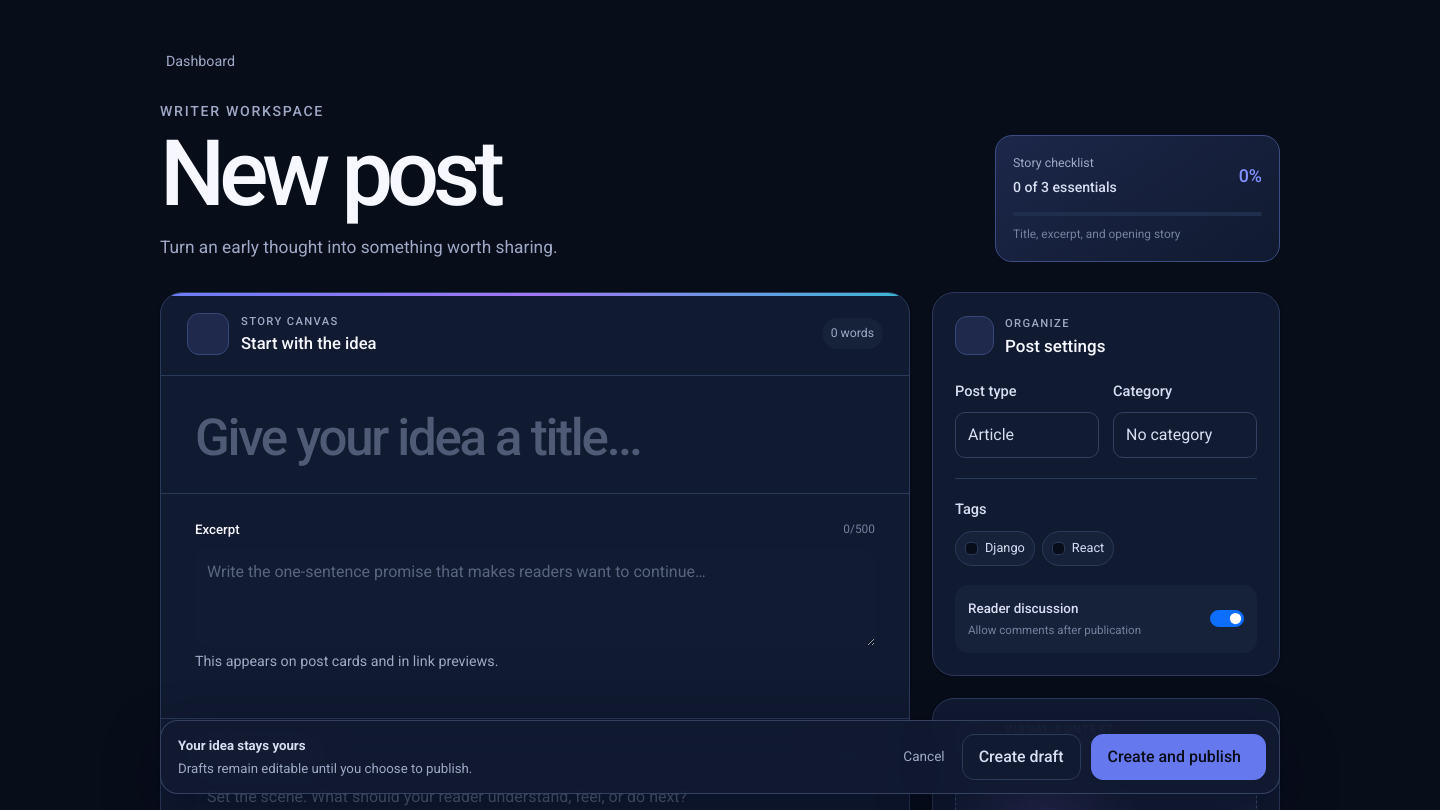
Scenario: PostEditorPage › shows and clears server field validation errors
Expected: the heading "New post" is shown, [160,120,499,227]
Type "Draft" into the field labelled "title". click: (535, 438)
box: [195,410,875,466]
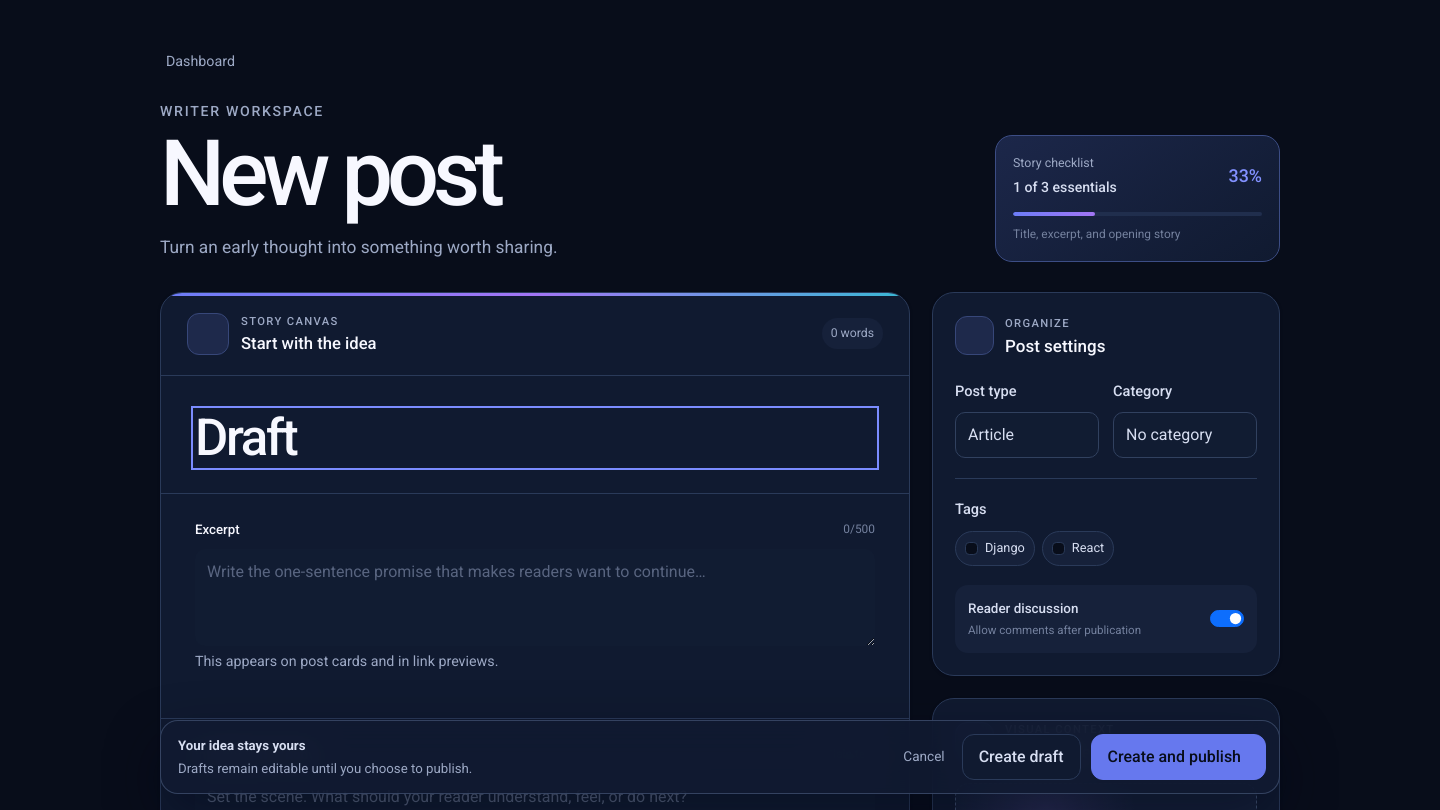
Click the button "Create draft". click: (1021, 757)
box: [962,734,1081,780]
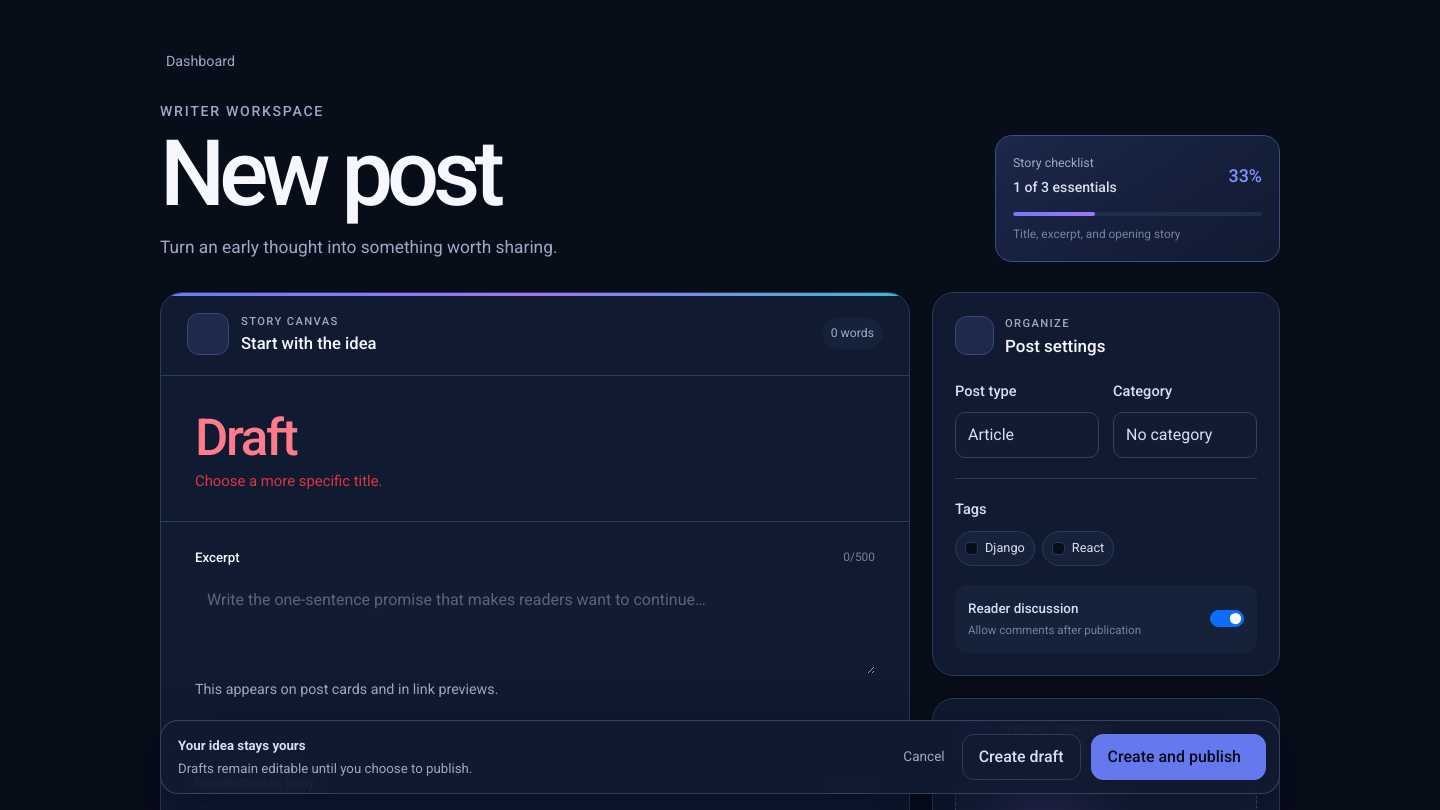
Result: the text "Choose a more specific title." is shown at [195,472,382,490]
Type " revised" into the field named "title". click: (535, 438)
box: [195,410,875,466]
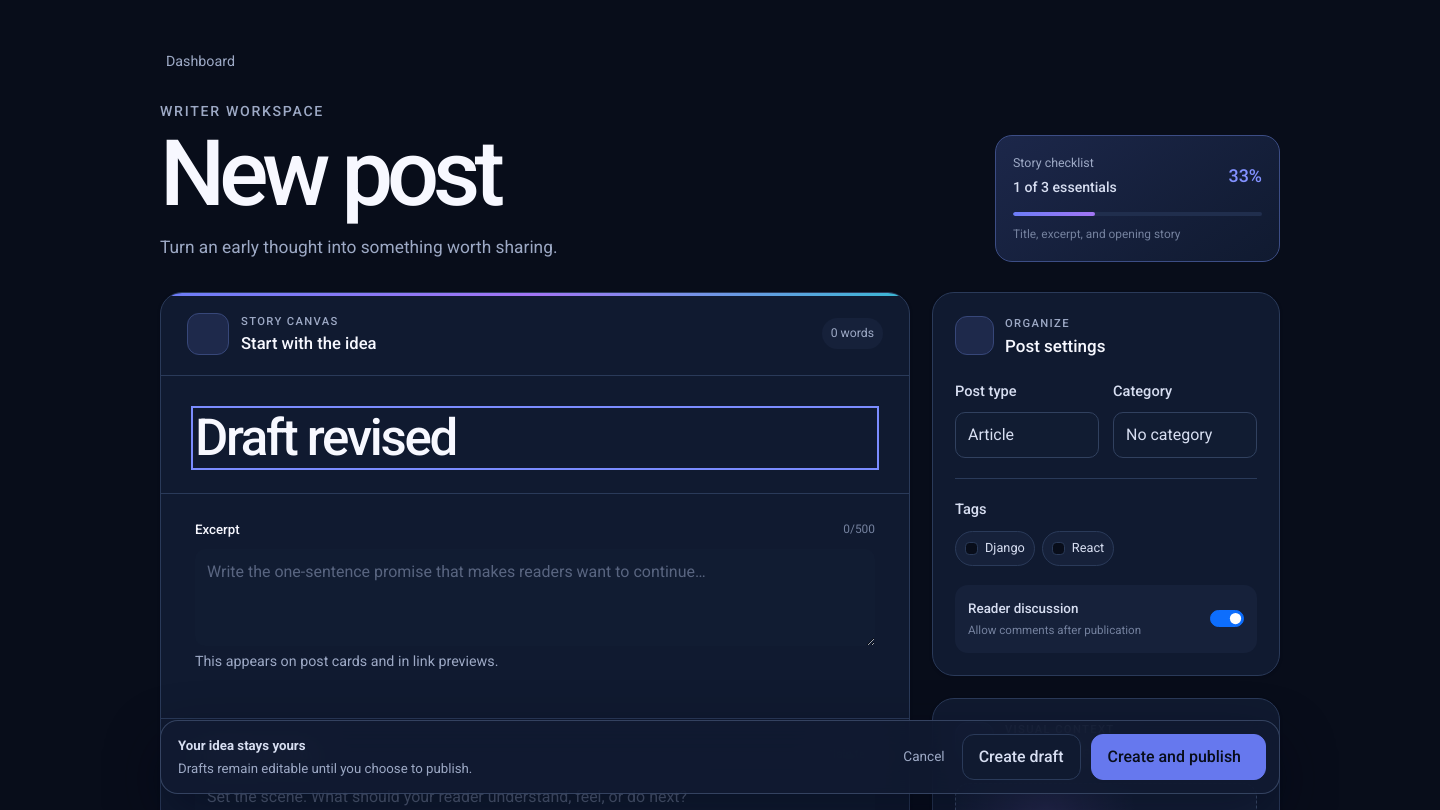
Result: the text "Choose a more specific title." is gone
